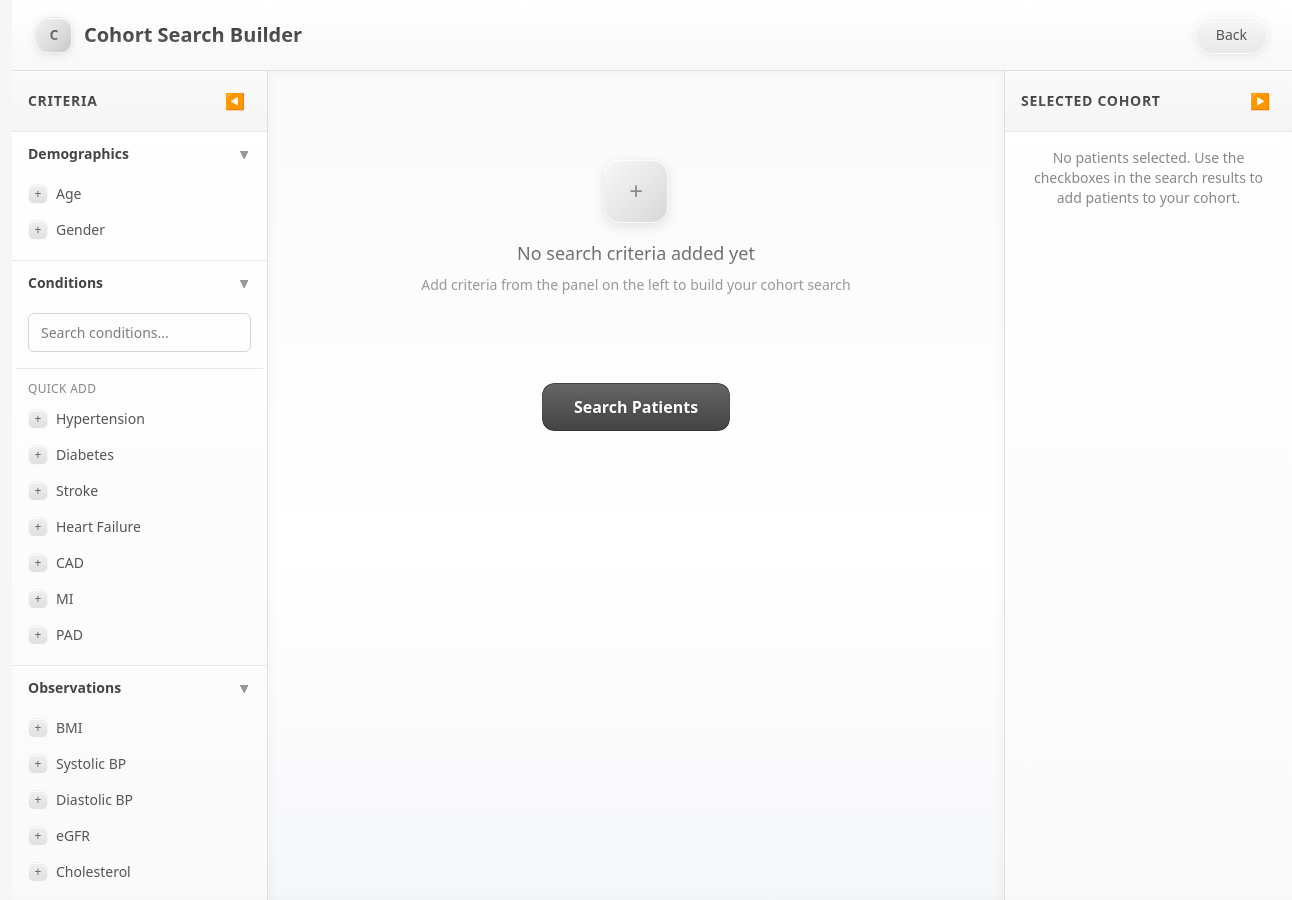
it: CohortBuilderPage › Adding criteria › should add condition criterion when condition button clicked
Step 1. Click the button with aria-label "Add Hypertension" → (140, 419), box 16,401 -> 263,437
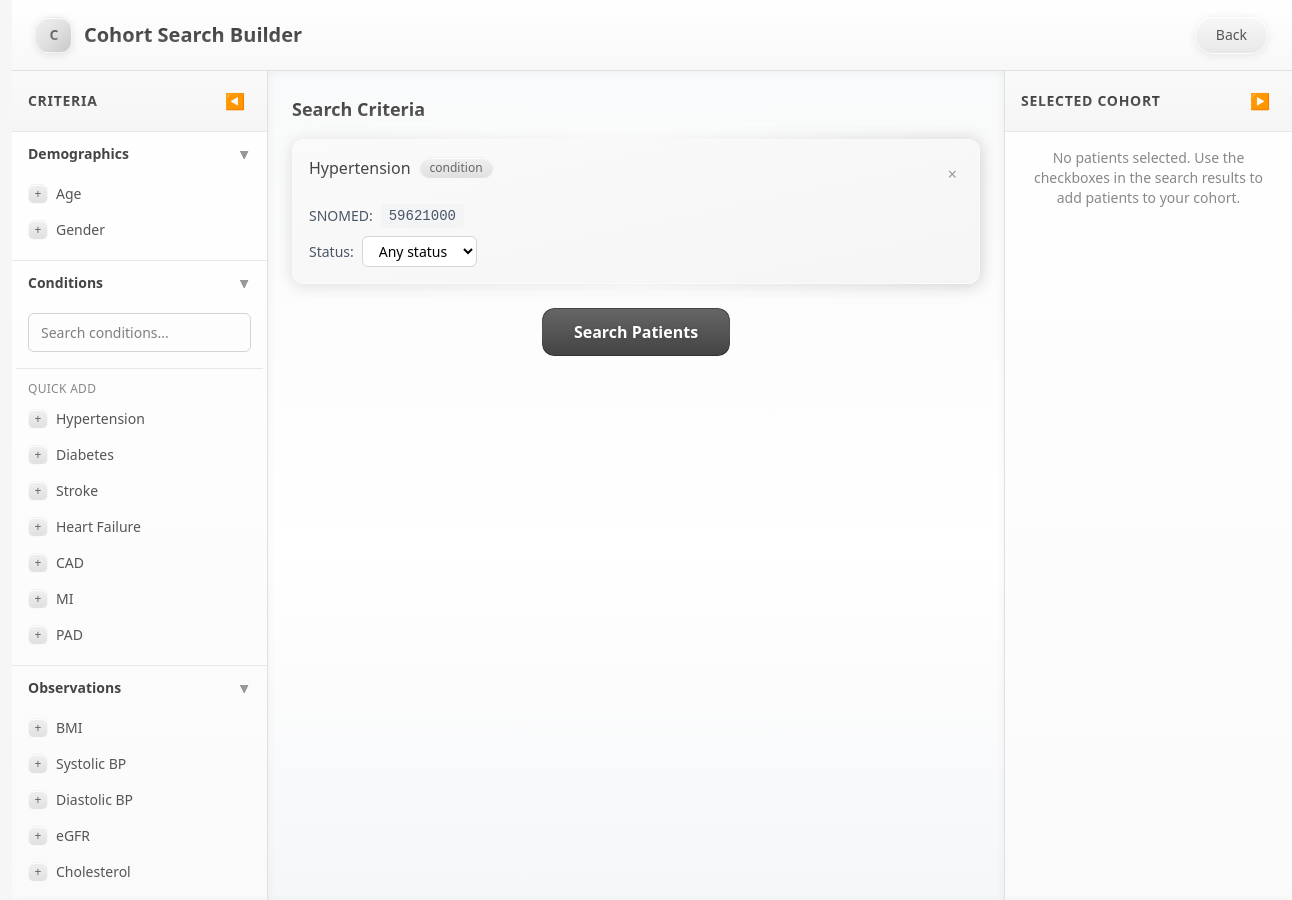
Check: the text "59621000" is shown, box 381,204 -> 464,228
Check: the text "condition" is shown, box 418,157 -> 494,179
